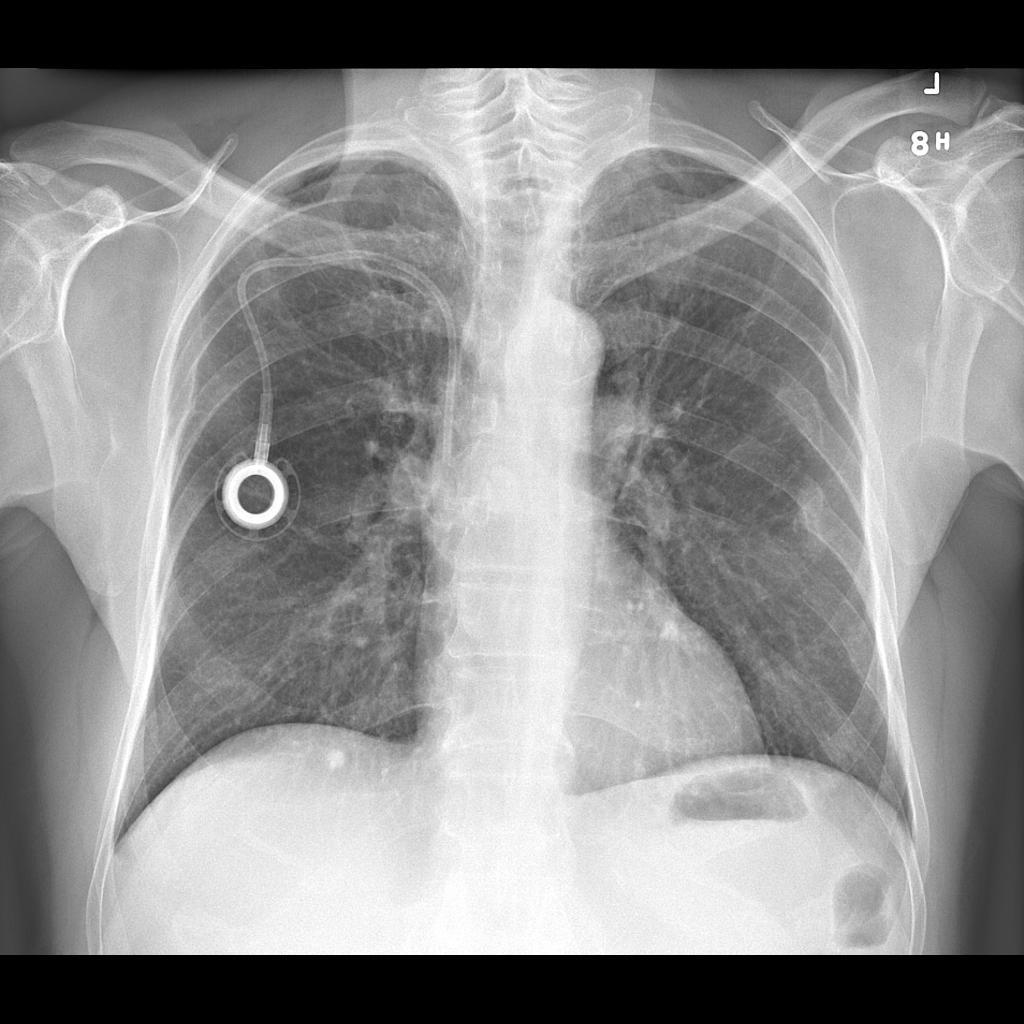Nodule: (320, 749, 353, 778)
